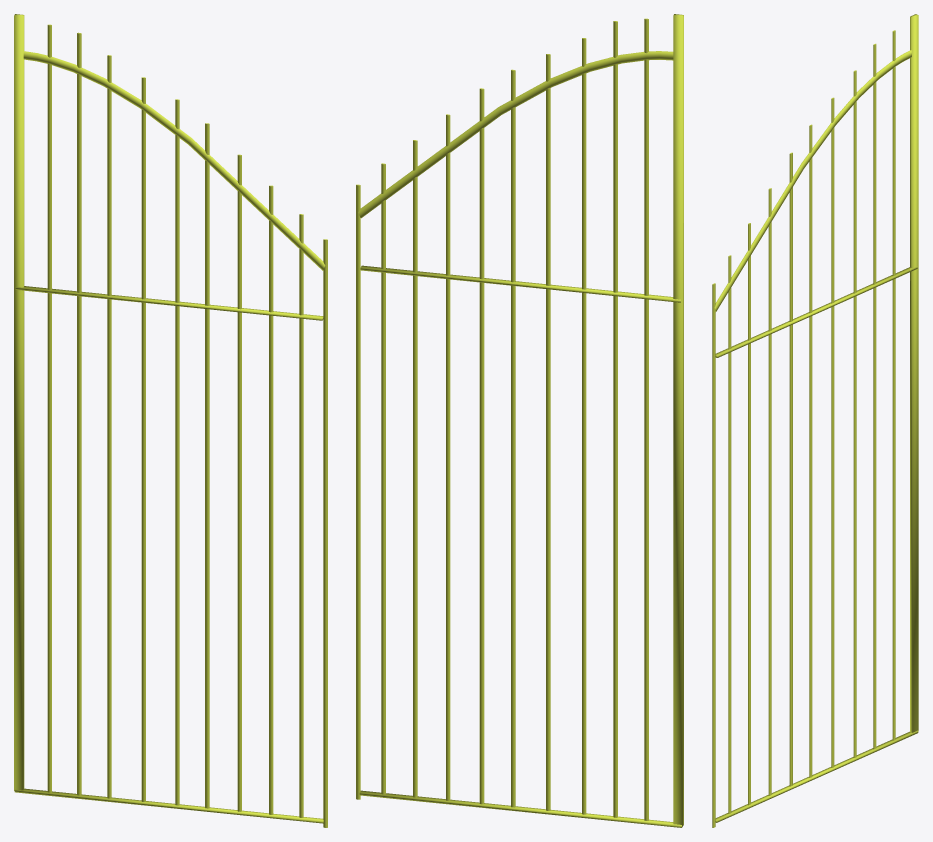
The model's file is puerta1_v.obj.
3 views of the same model, side by side, from view 1: azimuth 30°, elevation 25°; view 2: azimuth 210°, elevation 25°; view 3: azimuth 270°, elevation 25° (orthographic). The views are drawn at different scales.
Parts seen in each view (by area): view 1: puerta1_v; view 2: puerta1_v; view 3: puerta1_v.
Boxes of the visible parts, left/top/right/bottom form: puerta1_v: left=14, top=14, right=327, bottom=827; puerta1_v: left=356, top=14, right=683, bottom=827; puerta1_v: left=712, top=14, right=918, bottom=827.
Bounding box in the file's own units: 7.7 × 28.21 × 7.3.
